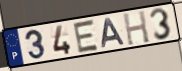3: (149, 7, 173, 42), (23, 28, 48, 61)
4: (52, 24, 73, 56)
A: (101, 17, 127, 50)
E: (72, 18, 101, 54)
H: (121, 10, 151, 47)
